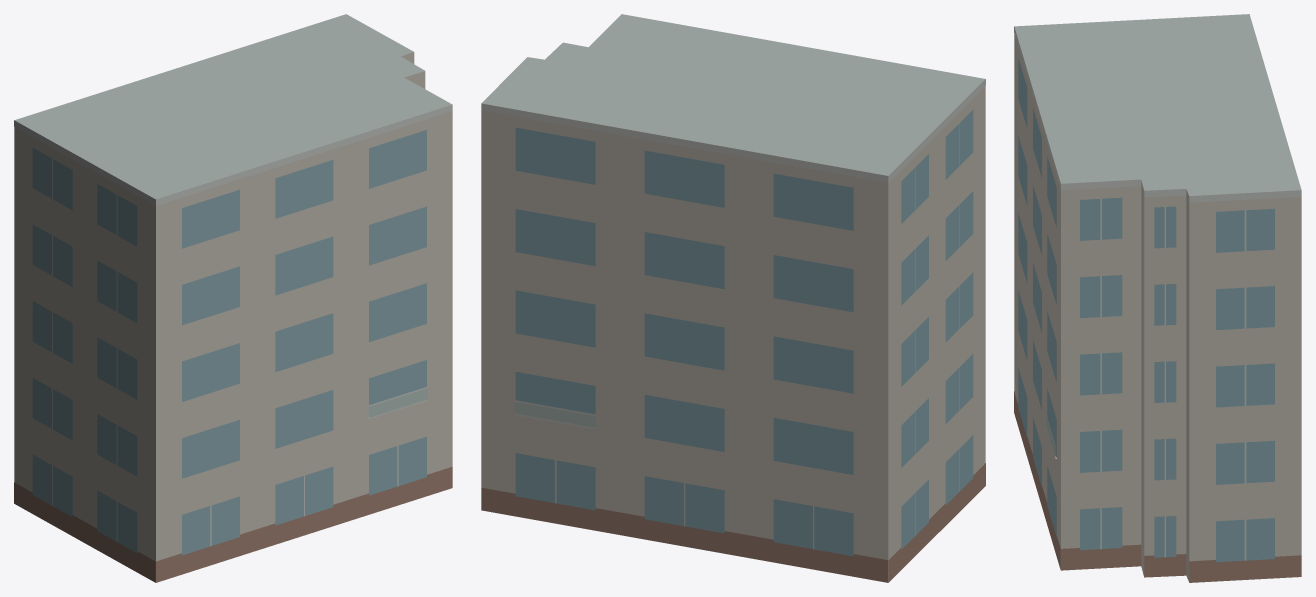
File: survey-upis-32700158.glb
The picture shows the model from 3 angles, left to right: view 1: azimuth 30°, elevation 25°; view 2: azimuth 150°, elevation 25°; view 3: azimuth 270°, elevation 25°; orthographic projection. The views are drawn at different scales.
Parts seen in each view (by area): view 1: survey-upis-32700158.tmp; view 2: survey-upis-32700158.tmp; view 3: survey-upis-32700158.tmp.
Boxes of the visible parts, box(x1,y1,x2,y2) form: survey-upis-32700158.tmp: box(14, 14, 452, 582); survey-upis-32700158.tmp: box(481, 14, 985, 582); survey-upis-32700158.tmp: box(1014, 14, 1301, 582).
Size of the model in its own units: 14.5 by 14.35 by 9.67.
